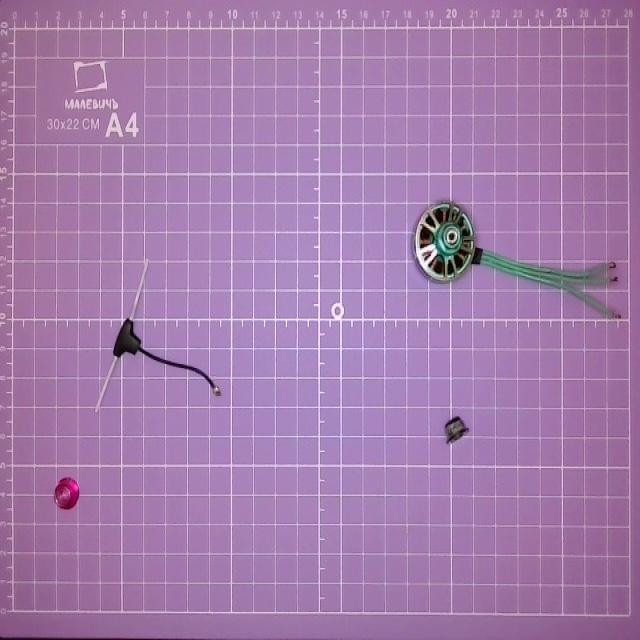antenna: (93, 260, 222, 410)
motor: (412, 194, 625, 327)
screw_M3: (330, 303, 344, 319)
screw_M5: (53, 471, 86, 518), (443, 411, 471, 448)
